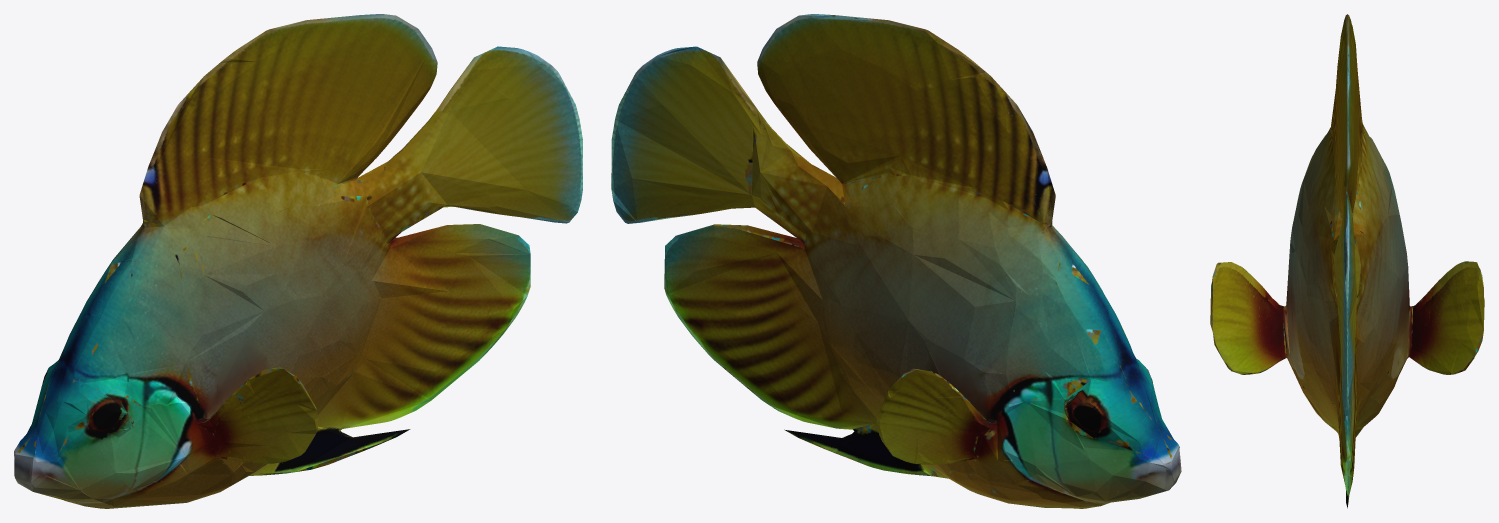
File: fish_0062_smpl23_resized.glb
3 renders of one model, left to right at view 1: azimuth 30°, elevation 25°; view 2: azimuth 150°, elevation 25°; view 3: azimuth 270°, elevation 25°, orthographic. The views are drawn at different scales.
Parts seen in each view (by area): view 1: world; view 2: world; view 3: world.
Part boxes in pixels (x1,y1,x2,y2): world: (14,14,582,508); world: (611,14,1181,508); world: (1210,14,1484,508).
Bounding box in the file's own units: 1.99 × 1.51 × 0.855.
1 material, 1 textured.
